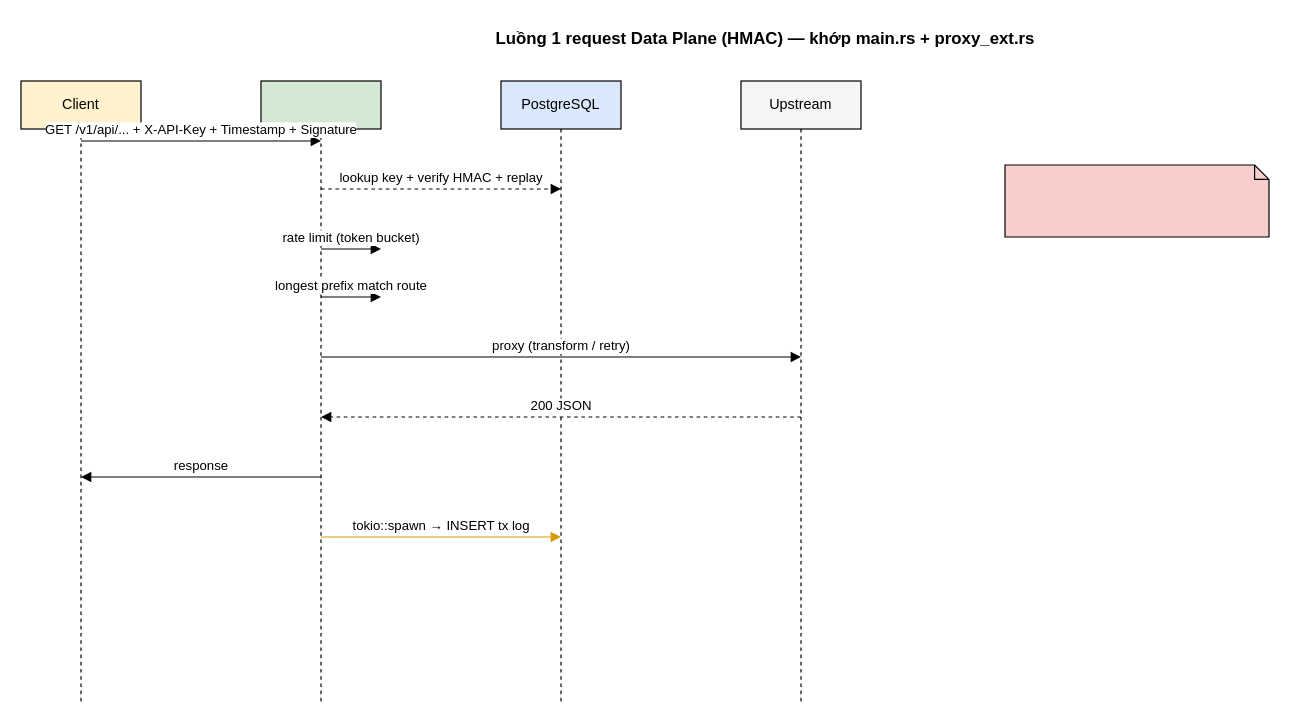
The diagram is 1290 pixels wide and 726 high, and some of its shapes have lost their labels. The box of each missing label's shape, as (x1, y1, x2, y2) in pixels:
Gateway: (260, 80, 381, 705)
Sai HMAC / replay / 429 → 401/429, không gọi upstream: (1004, 164, 1269, 237)
